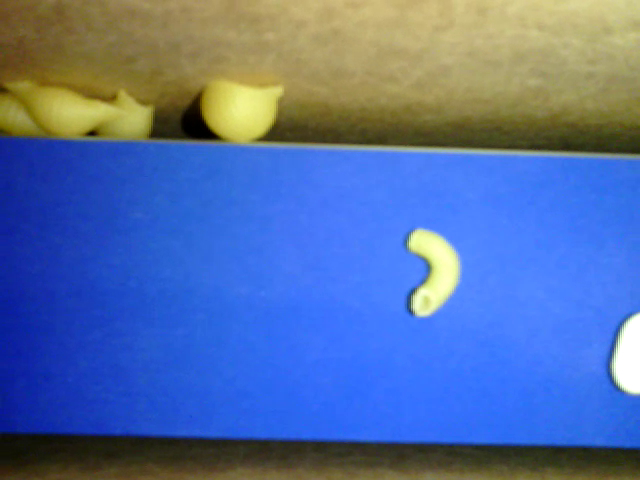elbow: (403, 226, 463, 318)
shell: (1, 80, 135, 140), (199, 77, 283, 143), (1, 89, 60, 140), (96, 90, 152, 139)
